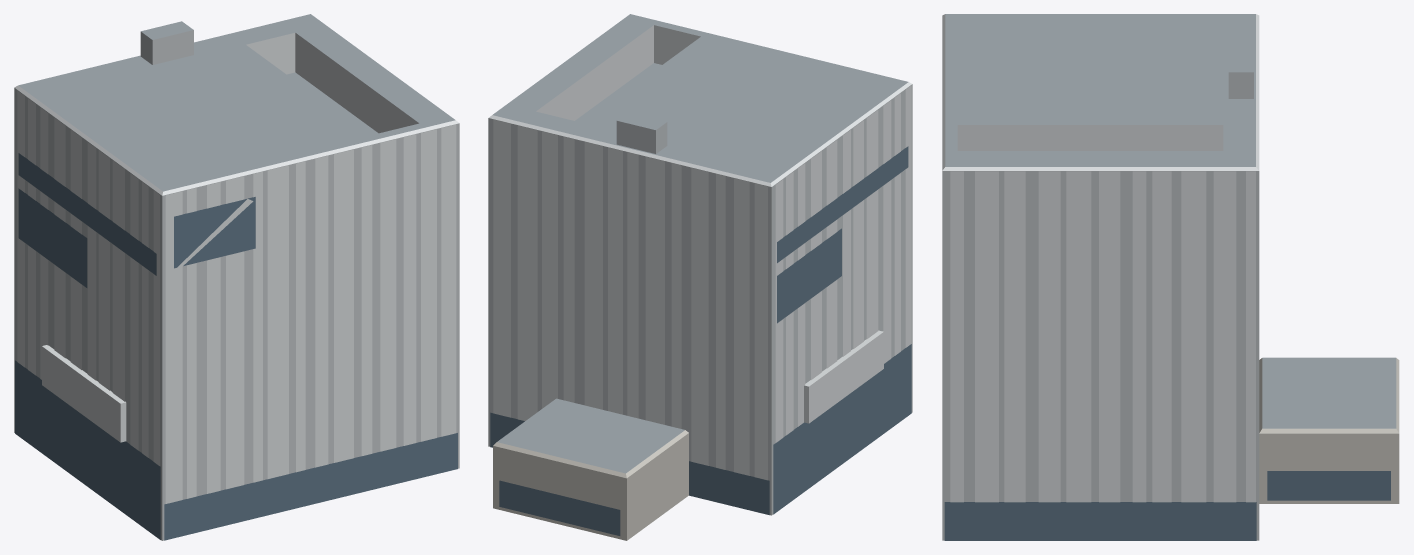
The model's file is dal-wyly-theatre.glb.
3 views of the same model, side by side, from view 1: azimuth 30°, elevation 25°; view 2: azimuth 150°, elevation 25°; view 3: azimuth 270°, elevation 25° (orthographic). The views are drawn at different scales.
Parts seen in each view (by area): view 1: Wyly Theatre; view 2: Wyly Theatre; view 3: Wyly Theatre.
Part boxes in pixels (x1,y1,x2,y2): Wyly Theatre: (14,14,459,540); Wyly Theatre: (488,14,912,540); Wyly Theatre: (942,14,1399,540).
Size of the model in its own units: 36.78 by 43.1 by 44.85.
